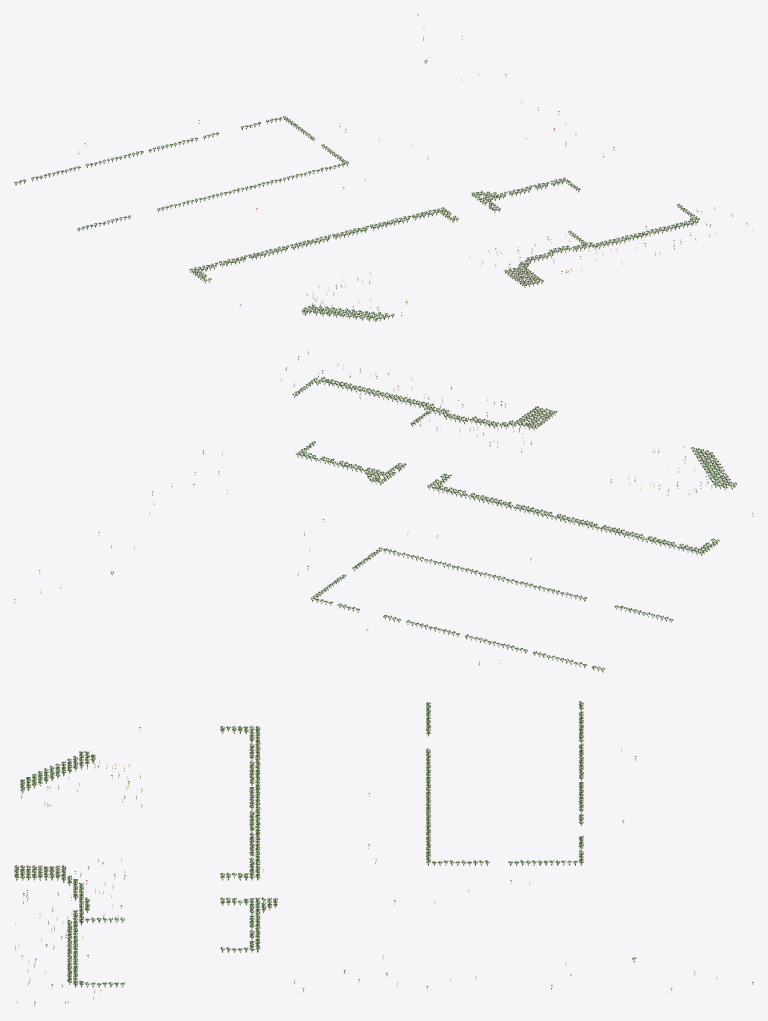
3 renders of one model, top to bottom at view 1: azimuth 30°, elevation 25°; view 2: azimuth 150°, elevation 25°; view 3: azimuth 270°, elevation 25°, orthographic. The views are drawn at different scales.
Visible parts, largest first — view 1: GROUND_FLORA_s_-6_-5; view 2: GROUND_FLORA_s_-6_-5; view 3: GROUND_FLORA_s_-6_-5.
Boxes of the visible parts, left/top/right/bottom form: GROUND_FLORA_s_-6_-5: left=14, top=14, right=753, bottom=321; GROUND_FLORA_s_-6_-5: left=14, top=351, right=753, bottom=672; GROUND_FLORA_s_-6_-5: left=14, top=701, right=753, bottom=1005.
Bounding box in the file's own units: 121 × 0.9729 × 126.
